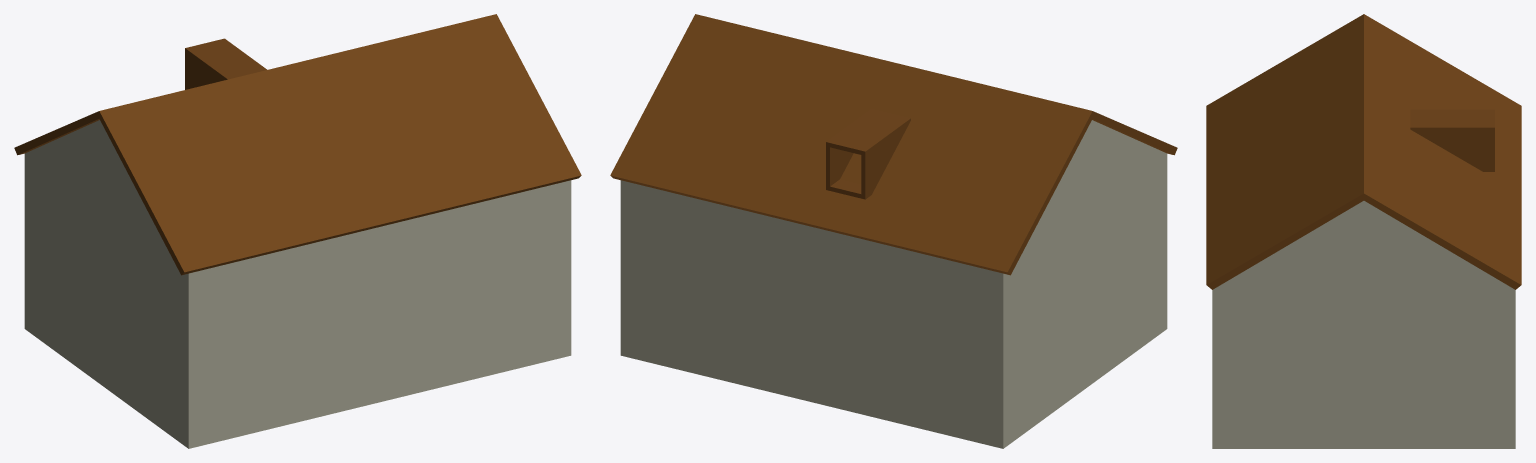
The model's file is S_Building_04.FBX.
3 views of the same model, side by side, from view 1: azimuth 30°, elevation 25°; view 2: azimuth 150°, elevation 25°; view 3: azimuth 270°, elevation 25° (orthographic). The views are drawn at different scales.
Parts seen in each view (by area): view 1: S_Building_002; view 2: S_Building_002; view 3: S_Building_002.
Part boxes in pixels (x1=…): S_Building_002: x1=14, y1=14, x2=581, y2=448; S_Building_002: x1=610, y1=14, x2=1177, y2=448; S_Building_002: x1=1206, y1=14, x2=1521, y2=448.
Bounding box in the file's own units: 709 × 477 × 526.
